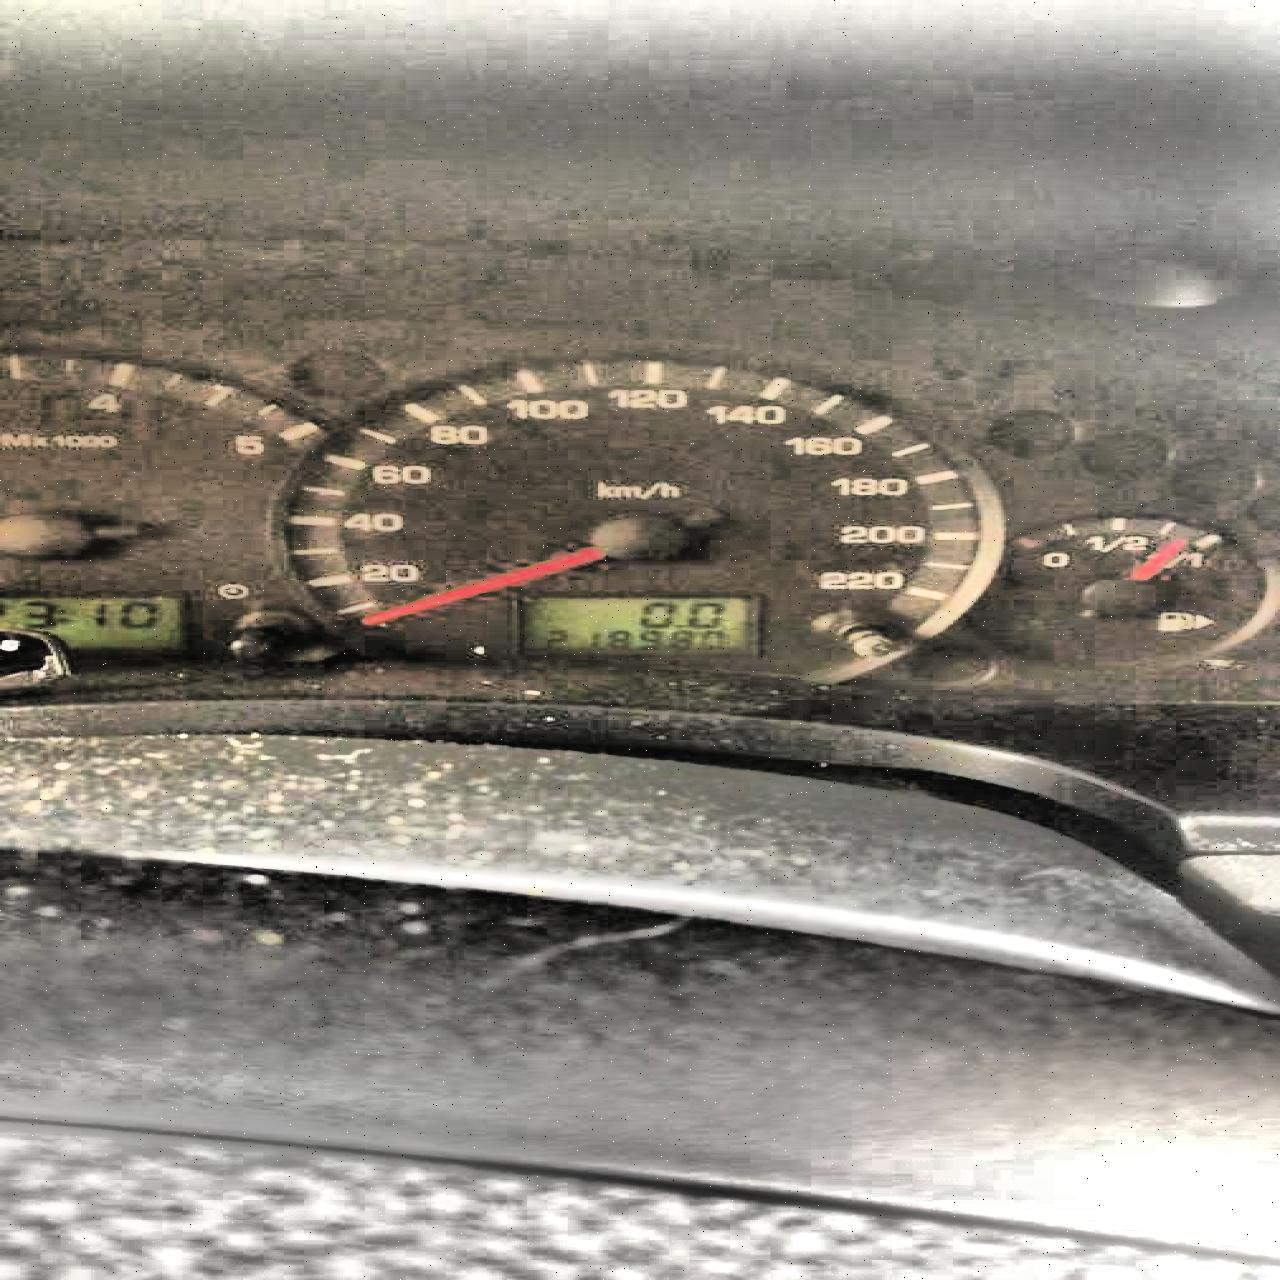-: (672, 621, 685, 627)
0: (685, 600, 722, 628), (636, 601, 672, 627), (697, 629, 726, 651)
1: (584, 628, 601, 647)
2: (539, 627, 570, 648)
8: (667, 629, 693, 651), (604, 629, 628, 649)
9: (632, 629, 662, 651)
odometer: (509, 588, 763, 660)
